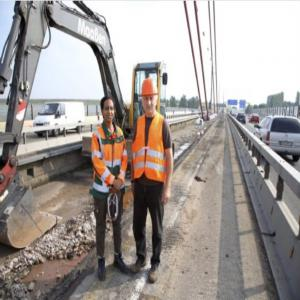none: (101, 92, 116, 127)
yellow: (141, 75, 160, 119)
